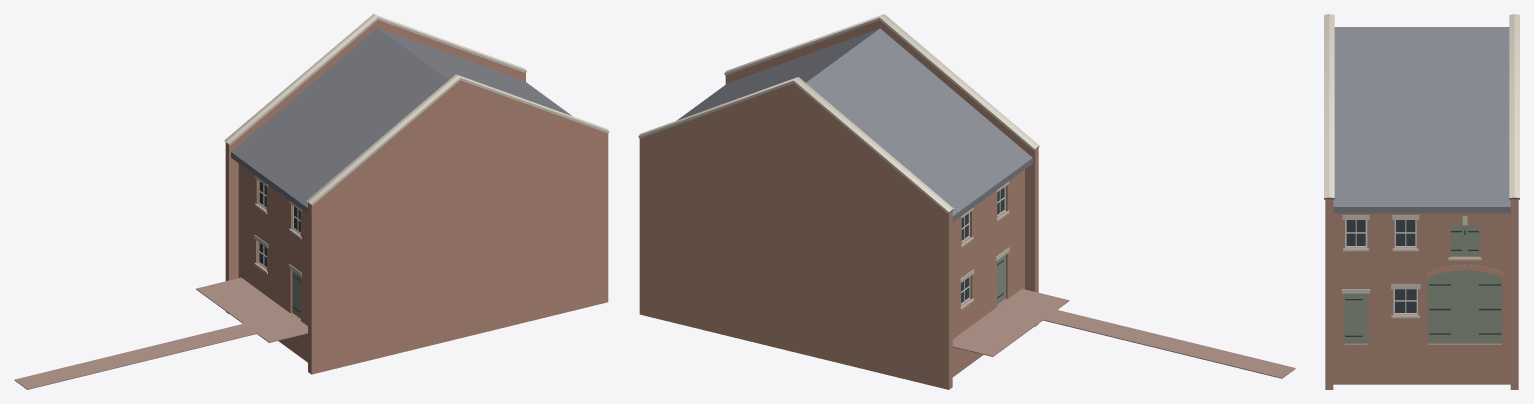
File: tolman_house_2031_prairie_coach_house__as_standing_1904.glb
3 views of the same model, side by side, from view 1: azimuth 30°, elevation 25°; view 2: azimuth 150°, elevation 25°; view 3: azimuth 270°, elevation 25° (orthographic). The views are drawn at different scales.
Visible parts, largest first — view 1: tolman_house_2031_prairie_coach_house__as_standing_1904; view 2: tolman_house_2031_prairie_coach_house__as_standing_1904; view 3: tolman_house_2031_prairie_coach_house__as_standing_1904.
Boxes of the visible parts, x1,y1,x2,y2 form: tolman_house_2031_prairie_coach_house__as_standing_1904: [14, 14, 609, 389]; tolman_house_2031_prairie_coach_house__as_standing_1904: [638, 14, 1295, 389]; tolman_house_2031_prairie_coach_house__as_standing_1904: [1324, 14, 1519, 389].
Size of the model in its own units: 30.05 by 13.21 by 7.96.
